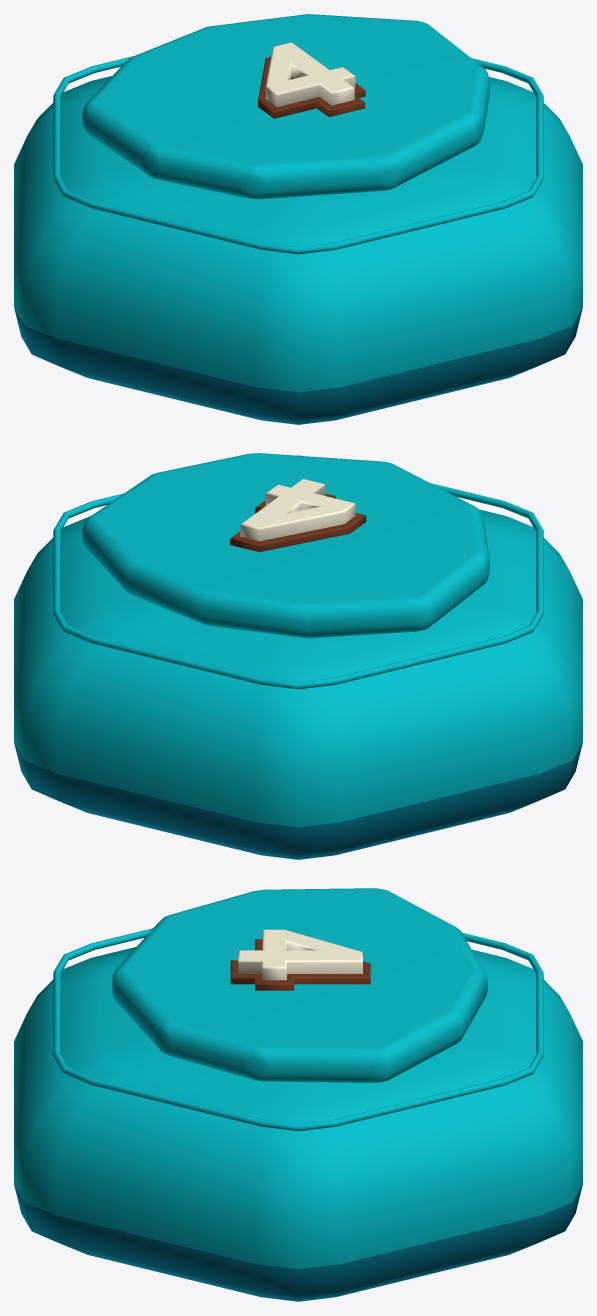
The model's file is HexStone_04_Turquoise.fbx.
3 views of the same model, one above another, from view 1: azimuth 30°, elevation 25°; view 2: azimuth 150°, elevation 25°; view 3: azimuth 270°, elevation 25° (orthographic).
Parts seen in each view (by area): view 1: HX_V03_Turquoise_Body, HX_ToneRelief_04, HX_V03_Turquoise_InnerRim, HX_V03_Digit_4_Face, HX_V03_Digit_4_Outline; view 2: HX_V03_Turquoise_Body, HX_ToneRelief_04, HX_V03_Turquoise_InnerRim, HX_V03_Digit_4_Face, HX_V03_Digit_4_Outline; view 3: HX_V03_Turquoise_Body, HX_ToneRelief_04, HX_V03_Turquoise_InnerRim, HX_V03_Digit_4_Face, HX_V03_Digit_4_Outline.
Boxes of the visible parts, x1=… form: HX_V03_Turquoise_Body: x1=14, y1=76, x2=582, y2=424; HX_ToneRelief_04: x1=82, y1=14, x2=489, y2=199; HX_V03_Turquoise_InnerRim: x1=53, y1=56, x2=543, y2=254; HX_V03_Digit_4_Face: x1=265, y1=42, x2=355, y2=106; HX_V03_Digit_4_Outline: x1=258, y1=56, x2=365, y2=118; HX_V03_Turquoise_Body: x1=14, y1=509, x2=582, y2=859; HX_ToneRelief_04: x1=82, y1=453, x2=489, y2=638; HX_V03_Turquoise_InnerRim: x1=53, y1=455, x2=543, y2=689; HX_V03_Digit_4_Face: x1=240, y1=479, x2=355, y2=541; HX_V03_Digit_4_Outline: x1=230, y1=494, x2=366, y2=552; HX_V03_Turquoise_Body: x1=14, y1=947, x2=582, y2=1301; HX_ToneRelief_04: x1=112, y1=888, x2=487, y2=1082; HX_V03_Turquoise_InnerRim: x1=53, y1=928, x2=543, y2=1131; HX_V03_Digit_4_Face: x1=238, y1=929, x2=362, y2=980; HX_V03_Digit_4_Outline: x1=230, y1=939, x2=370, y2=990.
Size of the model in its own units: 75.07 by 31.05 by 67.55.
